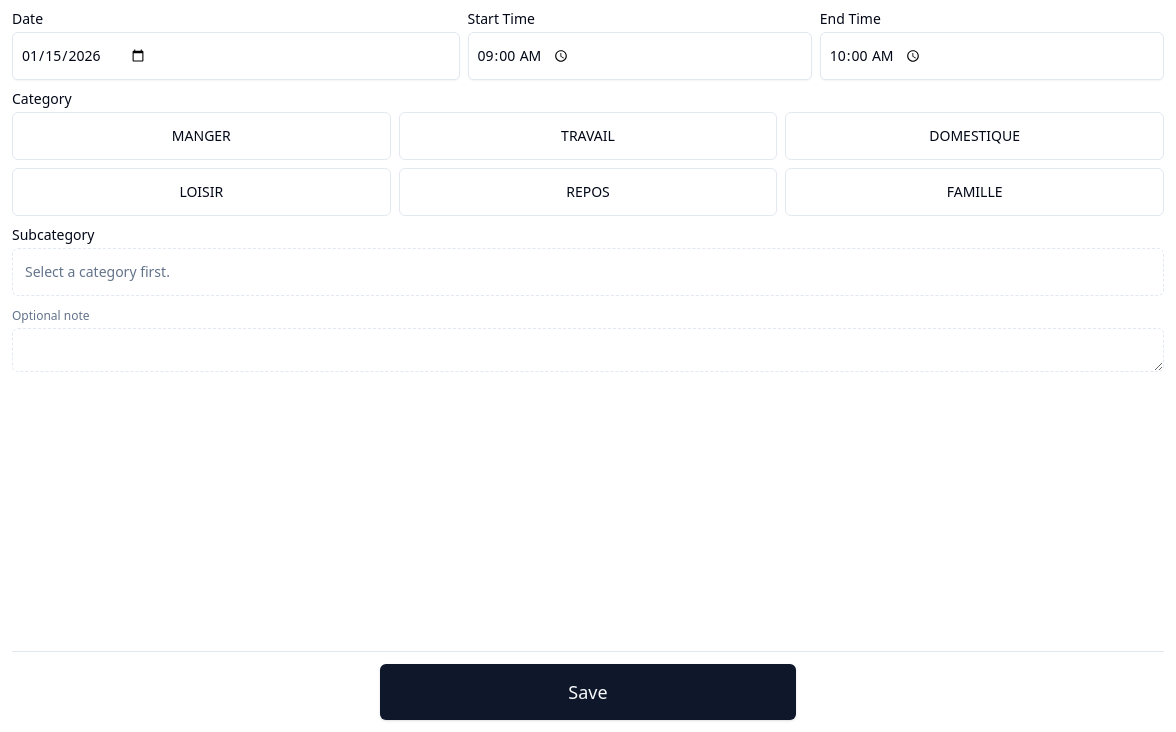
ActivityForm › shows a retry message when the action throws
The image size is (1176, 732).
Click the button "TRAVAIL": (588, 136) [399,112,777,160]
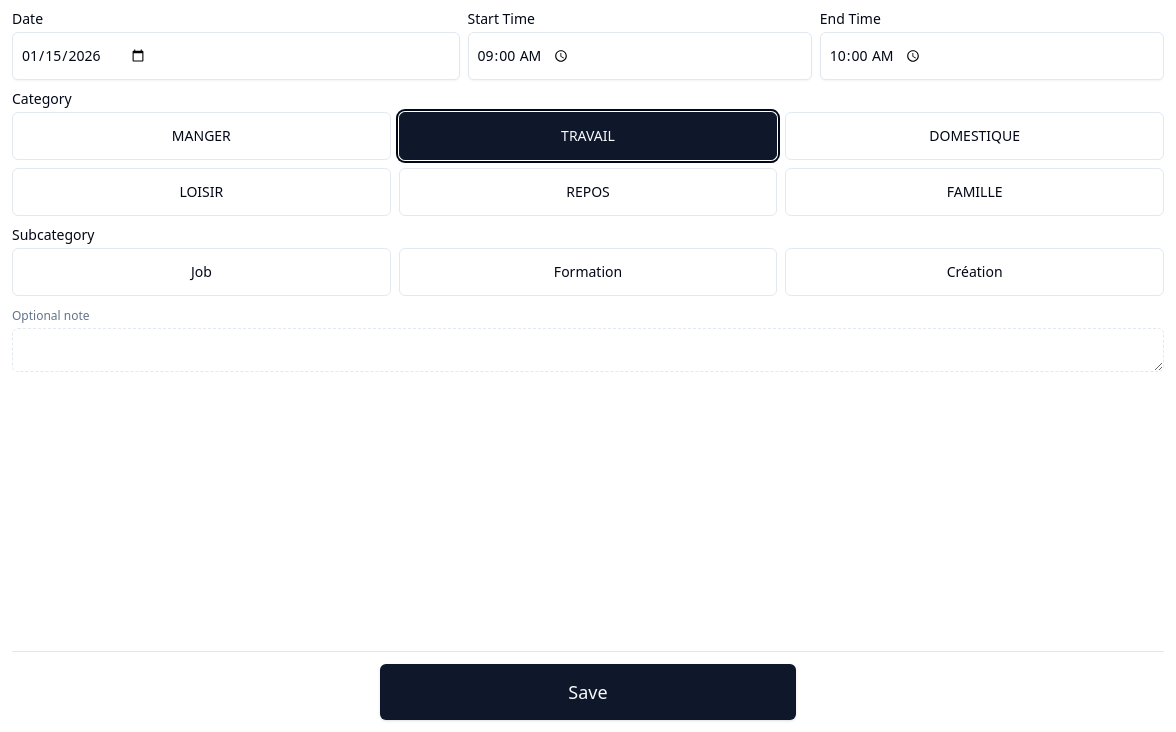
Click the button "Job": (201, 272) [12,248,391,296]
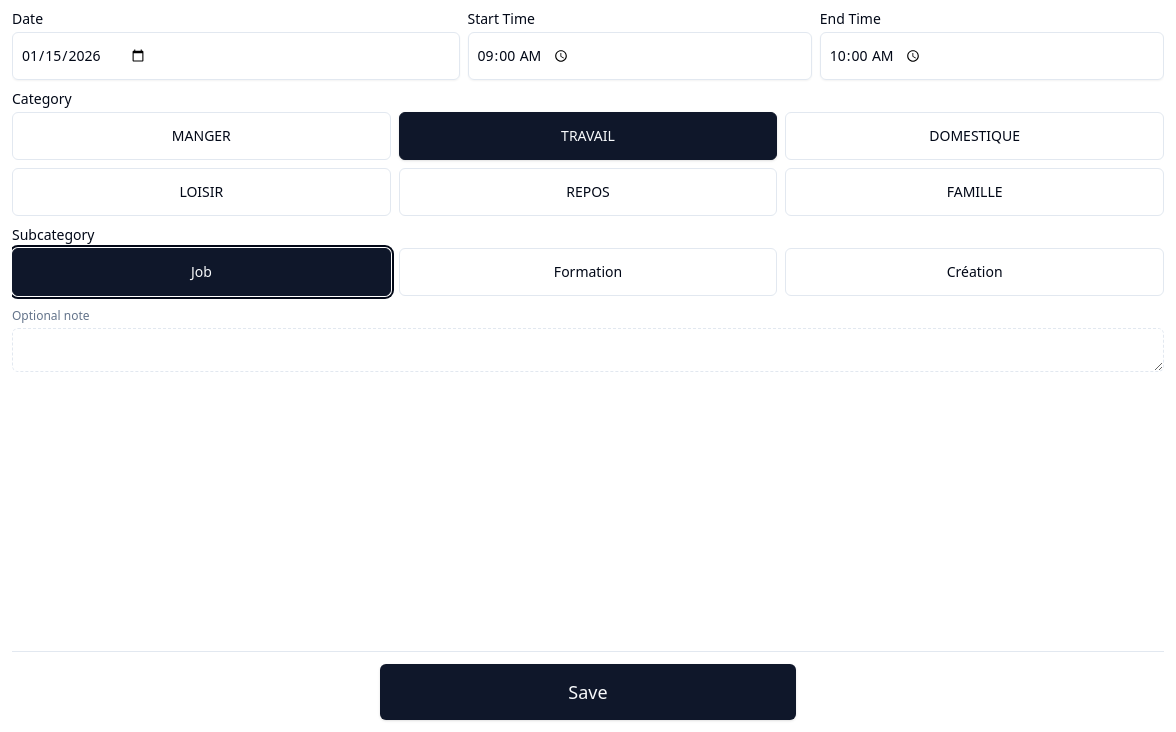
Click the button "Save": (588, 692) [380,664,796,720]
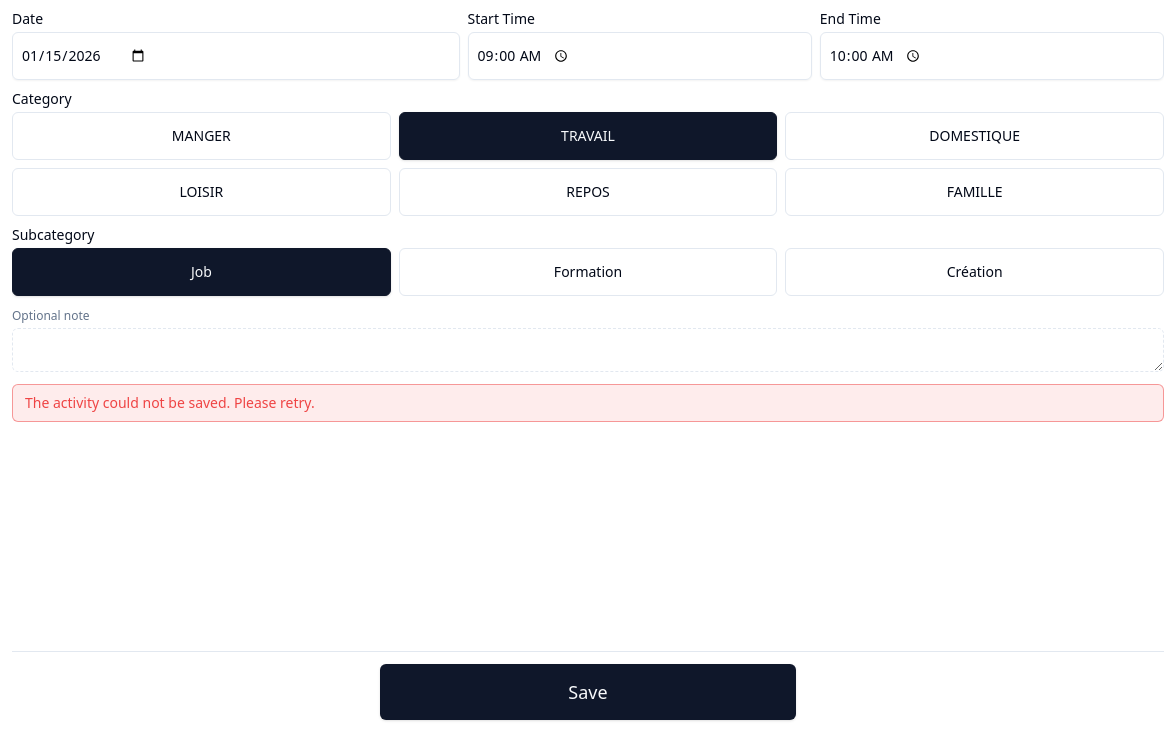
Result: the message reads "The activity could not be saved. Please retry." at [25,393,315,412]
